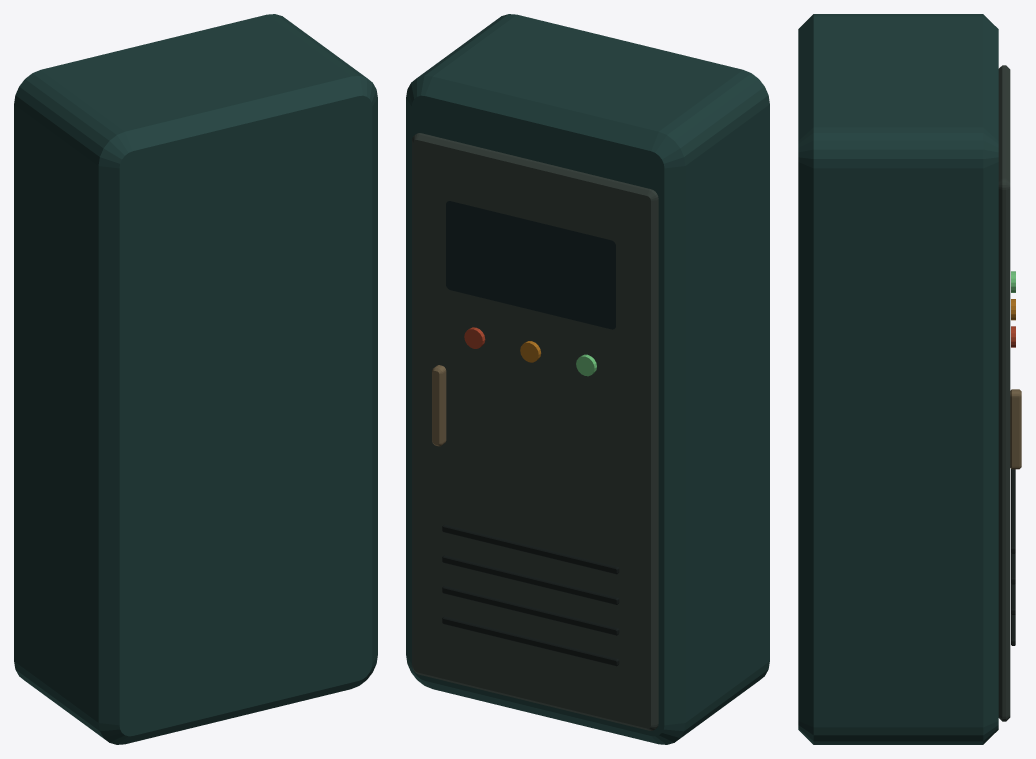
The model's file is portal_cabinet.obj.
The picture shows the model from 3 angles, left to right: view 1: azimuth 30°, elevation 25°; view 2: azimuth 150°, elevation 25°; view 3: azimuth 270°, elevation 25°; orthographic projection.
Visible parts, largest first — view 1: cabinet; view 2: door, cabinet, blank_diagnostic, vent, service_handle; view 3: cabinet, door, service_handle, vent.
Boxes of the visible parts, left/top/right/bottom form: cabinet: left=14, top=14, right=377, bottom=744; door: left=412, top=133, right=658, bottom=730; cabinet: left=406, top=14, right=769, bottom=744; blank_diagnostic: left=446, top=201, right=615, bottom=329; vent: left=442, top=524, right=619, bottom=666; service_handle: left=432, top=365, right=446, bottom=446; cabinet: left=798, top=14, right=998, bottom=744; door: left=998, top=65, right=1010, bottom=721; service_handle: left=1010, top=389, right=1021, bottom=469; vent: left=1011, top=469, right=1015, bottom=645.
Bounding box in the file's own units: 1.05 × 2.2 × 0.725.
